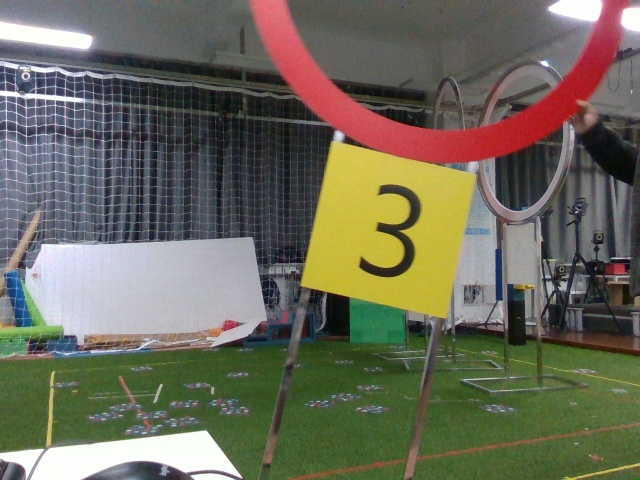target: (318, 160, 465, 307)
